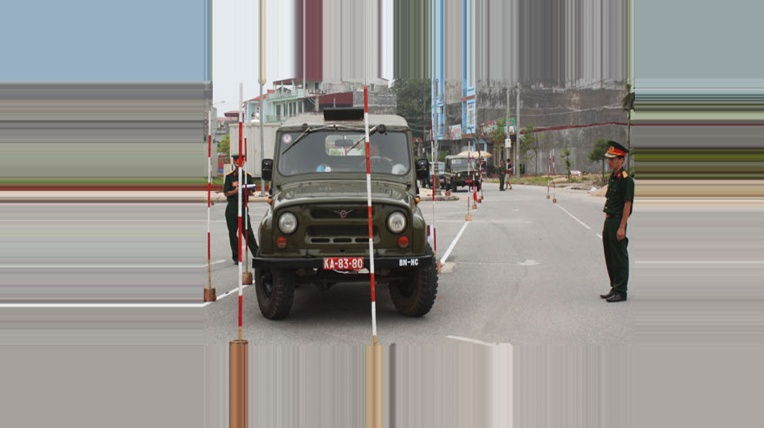plate: (321, 252, 364, 274)
